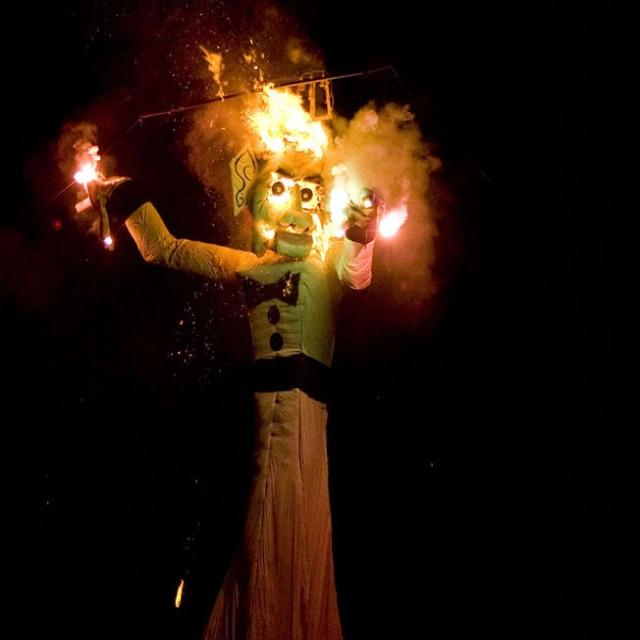fire: (244, 82, 328, 158), (311, 163, 372, 262), (238, 38, 274, 90), (199, 43, 229, 102)
